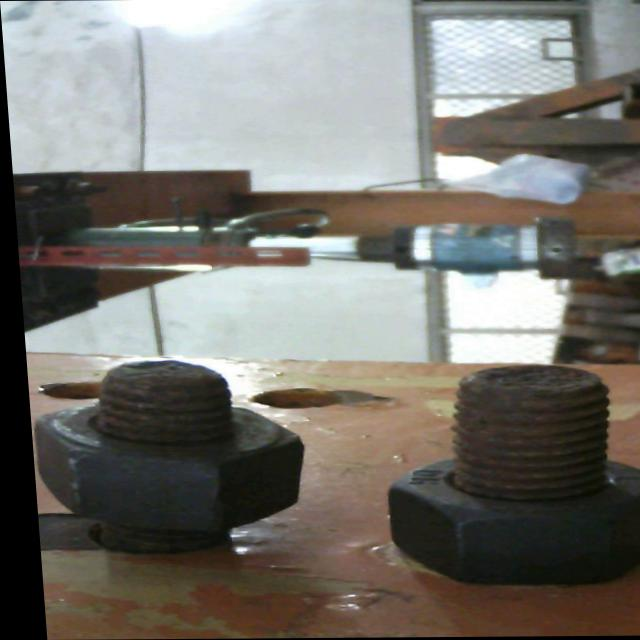Loose bolt: (22, 360, 306, 555)
Missing bolt: (243, 387, 339, 412), (32, 380, 95, 400)
Rusty bolt: (367, 363, 640, 589), (30, 355, 308, 572)
